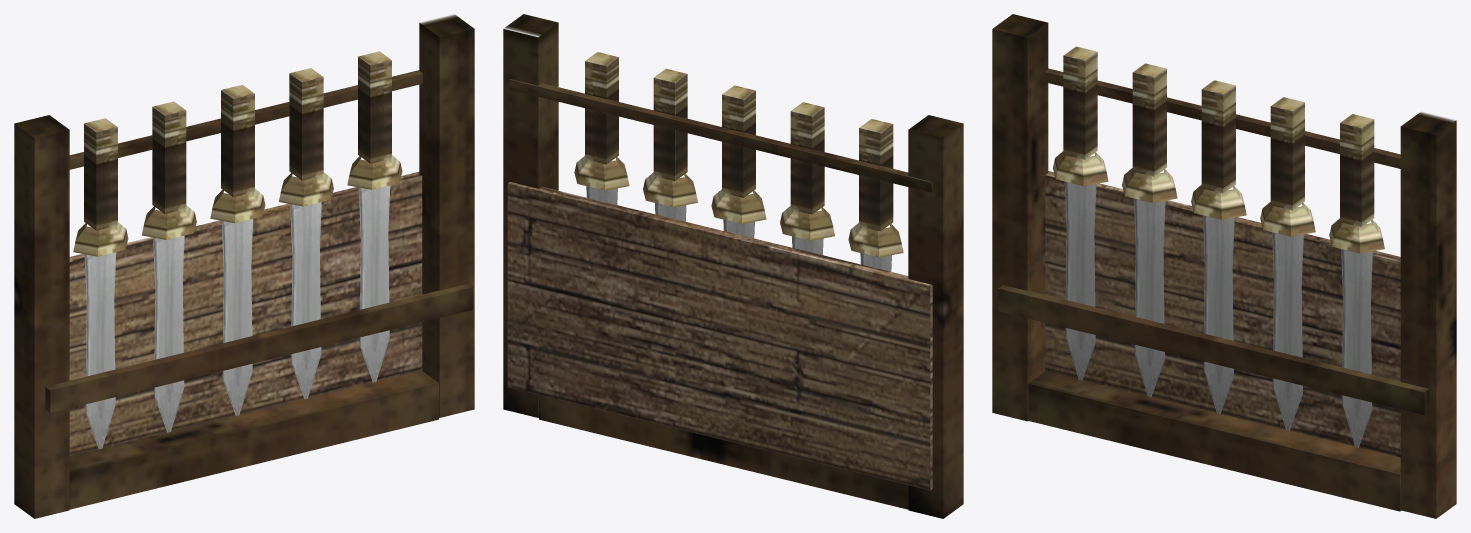
File: sword_rack.glb
3 views of the same model, side by side, from view 1: azimuth 30°, elevation 25°; view 2: azimuth 150°, elevation 25°; view 3: azimuth 330°, elevation 25° (orthographic).
Parts seen in each view (by area): view 1: Object001; view 2: Object001; view 3: Object001.
Boxes of the visible parts, x1=… form: Object001: x1=14, y1=14, x2=474, y2=518; Object001: x1=503, y1=14, x2=963, y2=518; Object001: x1=992, y1=14, x2=1456, y2=518.
Size of the model in its own units: 3.42 by 2.84 by 0.3686.
Materials: 1 (1 with a texture image).
